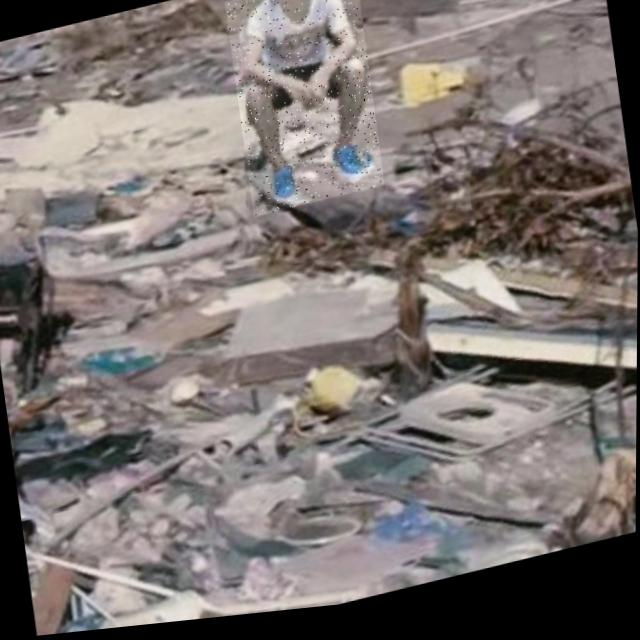Person in Rubble: (224, 0, 386, 225)
